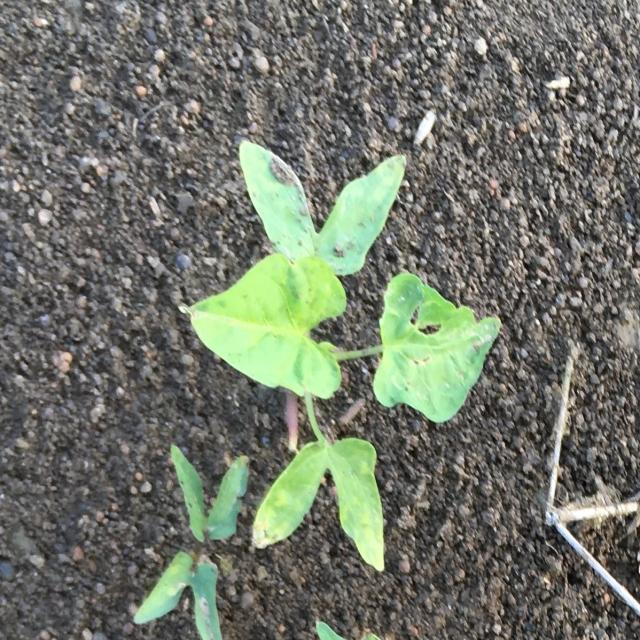MorningGlory: (190, 141, 501, 572), (134, 445, 249, 640)
